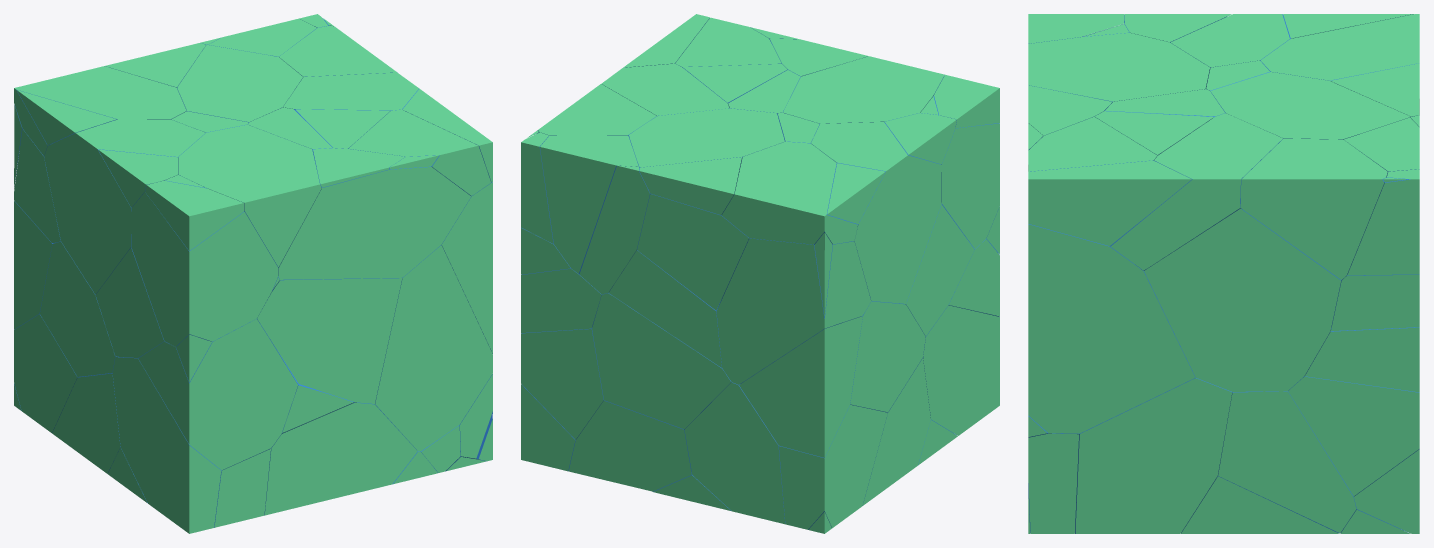
Rendered from DestroyedCube.fbx.
The picture shows the model from 3 angles, left to right: view 1: azimuth 30°, elevation 25°; view 2: azimuth 150°, elevation 25°; view 3: azimuth 270°, elevation 25°; orthographic projection. The views are drawn at different scales.
Visible parts, largest first — view 1: Cube_cell.067, Cube_cell.005, Cube_cell.011, Cube_cell.066, Cube_cell.014, Cube_cell.040, Cube_cell.007, Cube_cell.055, Cube_cell.015, Cube_cell.009, Cube_cell.004, Cube_cell.013 (+26 smaller); view 2: Cube_cell.016, Cube_cell.040, Cube_cell.012, Cube_cell.058, Cube_cell.004, Cube_cell.041, Cube_cell.015, Cube_cell.023, Cube_cell.063, Cube_cell.055, Cube_cell.038, Cube_cell.001 (+28 smaller); view 3: Cube_cell.042, Cube_cell.044, Cube_cell.047, Cube_cell.061, Cube_cell.072, Cube_cell.033, Cube_cell, Cube_cell.055, Cube_cell.036, Cube_cell.009, Cube_cell.004, Cube_cell.037 (+17 smaller).
Boxes of the visible parts, x1,y1,x2,y2 form: Cube_cell.067: (278, 166, 471, 279); Cube_cell.005: (374, 245, 492, 451); Cube_cell.011: (131, 175, 278, 346); Cube_cell.066: (138, 318, 297, 470); Cube_cell.014: (257, 278, 402, 403); Cube_cell.040: (44, 119, 205, 294); Cube_cell.007: (264, 402, 417, 515); Cube_cell.055: (178, 124, 321, 267); Cube_cell.015: (112, 357, 221, 533); Cube_cell.009: (177, 45, 302, 122); Cube_cell.004: (14, 66, 186, 155); Cube_cell.013: (40, 241, 118, 377); Cube_cell.016: (716, 238, 871, 384); Cube_cell.040: (811, 122, 941, 303); Cube_cell.012: (592, 293, 731, 429); Cube_cell.058: (739, 316, 862, 457); Cube_cell.004: (721, 141, 857, 244); Cube_cell.041: (684, 382, 785, 524); Cube_cell.015: (923, 305, 999, 435); Cube_cell.023: (779, 404, 887, 529); Cube_cell.063: (540, 135, 639, 274); Cube_cell.055: (783, 56, 944, 123); Cube_cell.038: (568, 400, 691, 491); Cube_cell.001: (637, 194, 748, 310); Cube_cell.042: (1028, 224, 1195, 433); Cube_cell.044: (1144, 208, 1341, 391); Cube_cell.047: (1075, 377, 1232, 533); Cube_cell.061: (1240, 138, 1387, 279); Cube_cell.072: (1217, 391, 1359, 533); Cube_cell.033: (1110, 113, 1283, 270); Cube_cell: (1288, 376, 1419, 496); Cube_cell.055: (1028, 32, 1209, 102); Cube_cell.036: (1028, 160, 1191, 245); Cube_cell.009: (1210, 72, 1410, 139); Cube_cell.004: (1261, 14, 1419, 80); Cube_cell.037: (1304, 327, 1419, 392).
Bounding box in the file's own units: 200 × 200 × 200.
